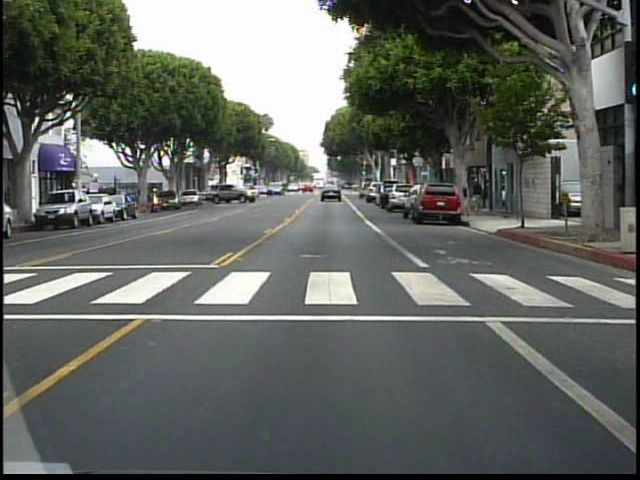person: (468, 178, 489, 218)
